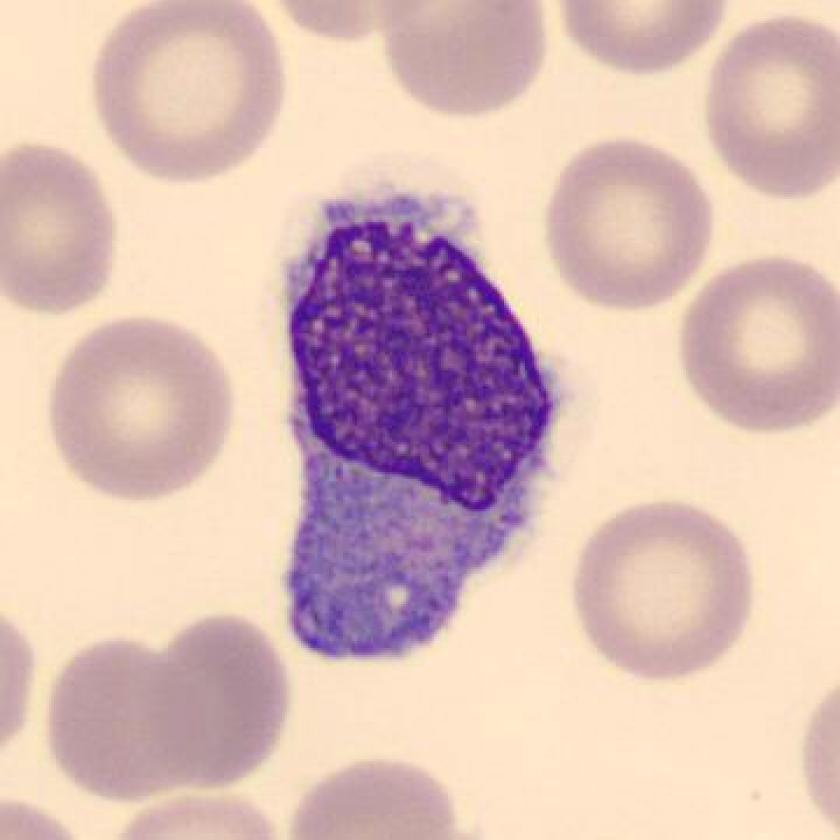monocyte: (244, 156, 577, 681)
